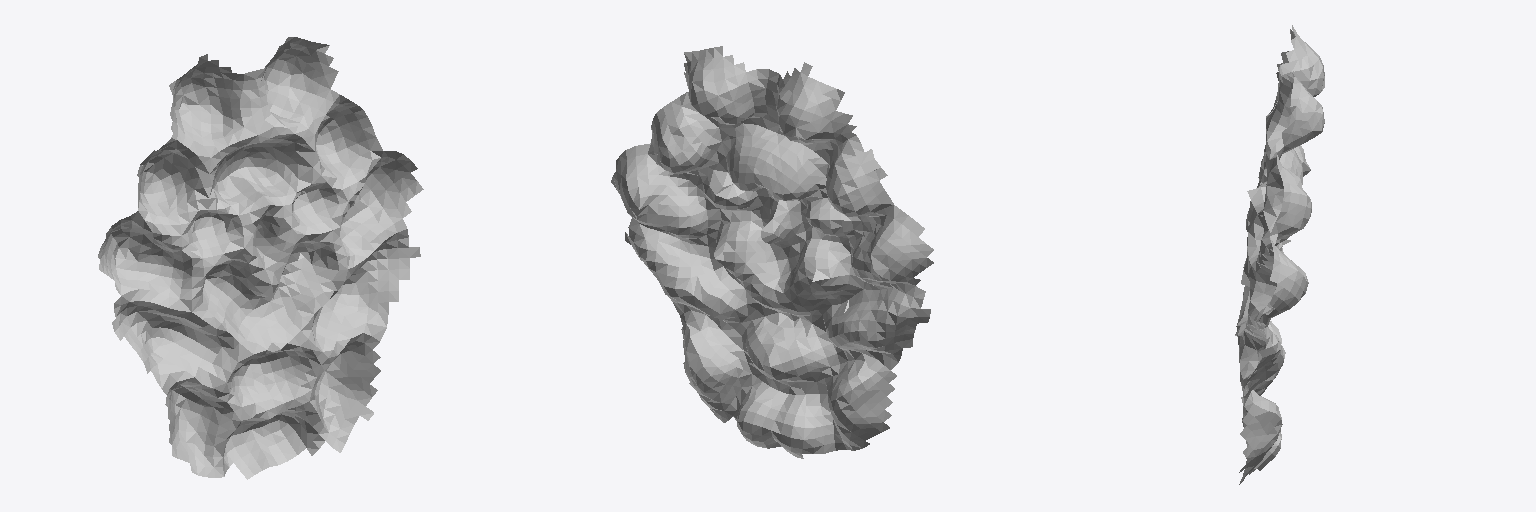
The model's file is USNM_73_macro-150k11.obj.
The picture shows the model from 3 angles: view 1: azimuth 30°, elevation 25°; view 2: azimuth 150°, elevation 25°; view 3: azimuth 270°, elevation 25°; orthographic projection.
Size of the model in its own units: 0.0309 by 0.0378 by 0.0075.